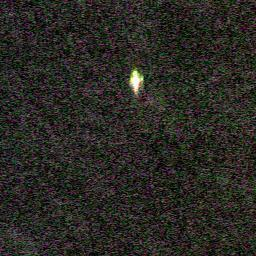Ship: (127, 67, 145, 94)
